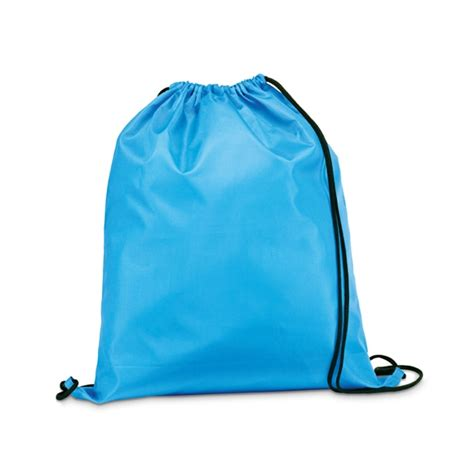nylon: (58, 73, 408, 403)
